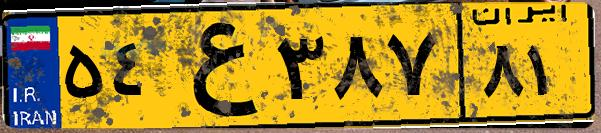1: (525, 38, 570, 115)
3: (270, 28, 330, 110)
4: (110, 28, 158, 98)
5: (57, 26, 110, 100)
7: (385, 28, 445, 110)
8: (330, 28, 385, 110), (475, 38, 525, 113)
ع: (158, 12, 270, 120)
